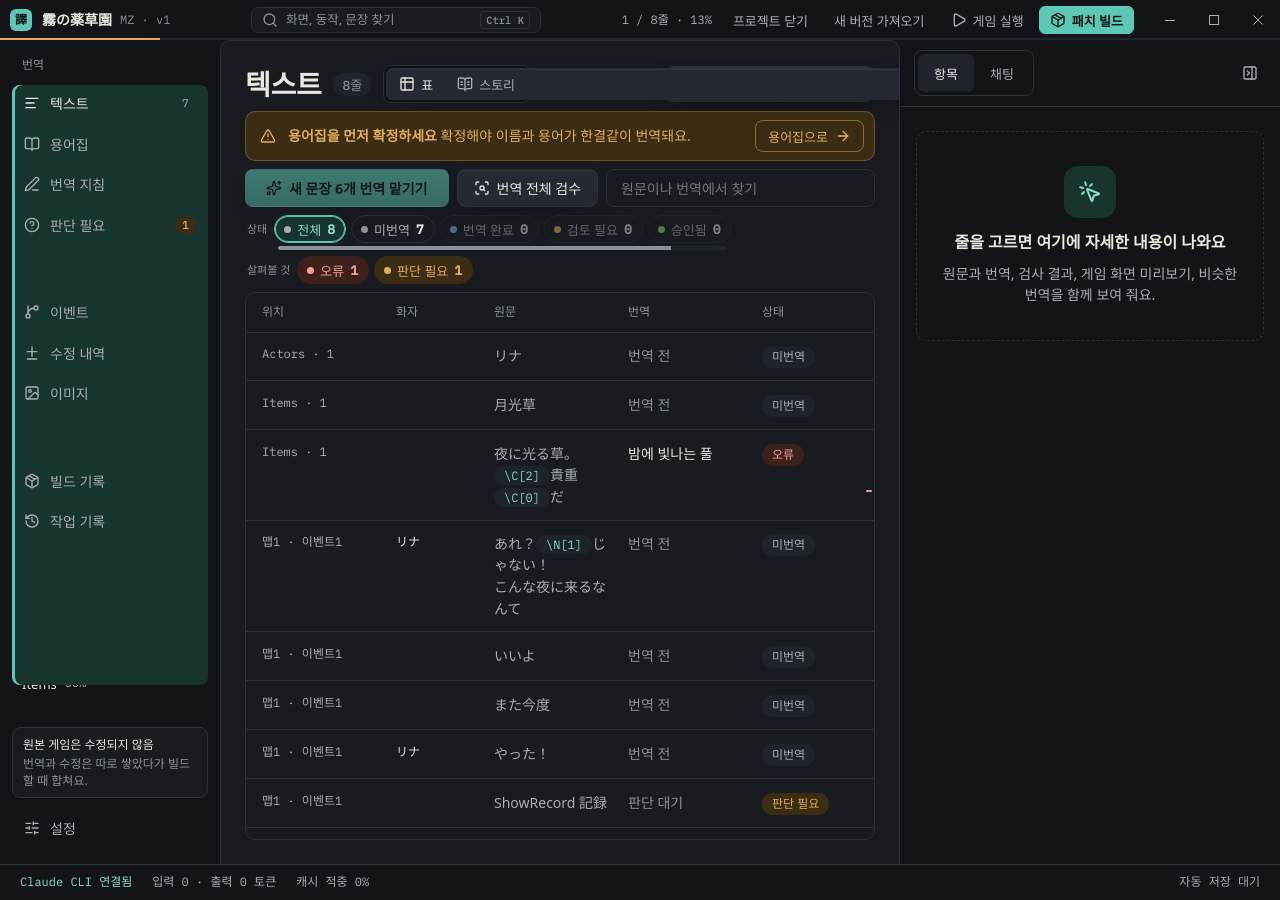
Test: 내보내기와 가져오기가 끝나면 알림
The width and height of the screenshot is (1280, 900).
Expected: the text "霧の薬草園" is shown, [42,9,112,31]
Step 1. Click the button "내보내기 (8)" → click(721, 84), box [665,67,778,101]
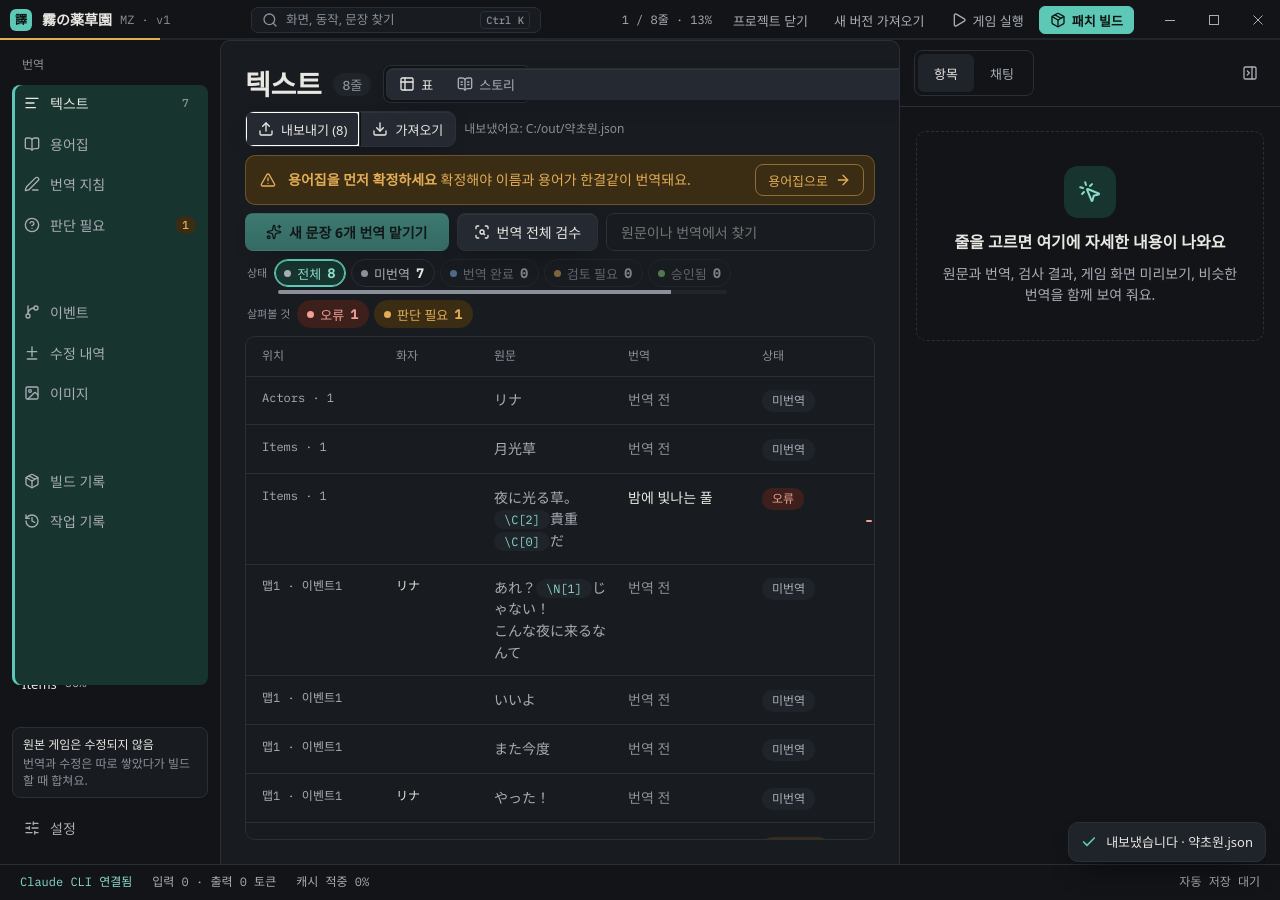
Result: the text "내보냈습니다 · 약초원.json" is shown at [1106,832,1253,852]
Step 2. Click the button "가져오기" → click(407, 129), box [360,112,455,146]
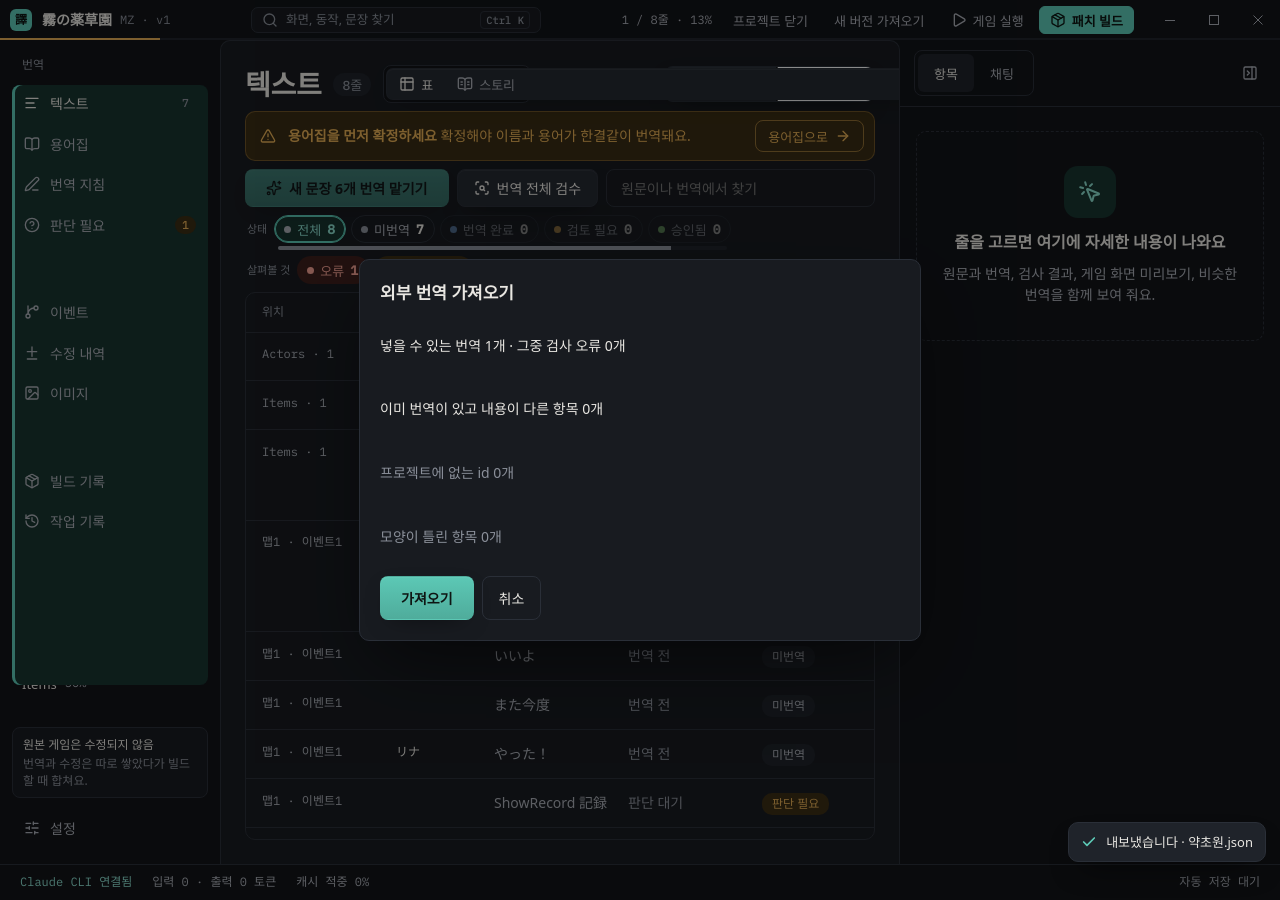
Step 3. Click the button "가져오기" → click(427, 598), box [380,576,474,620]
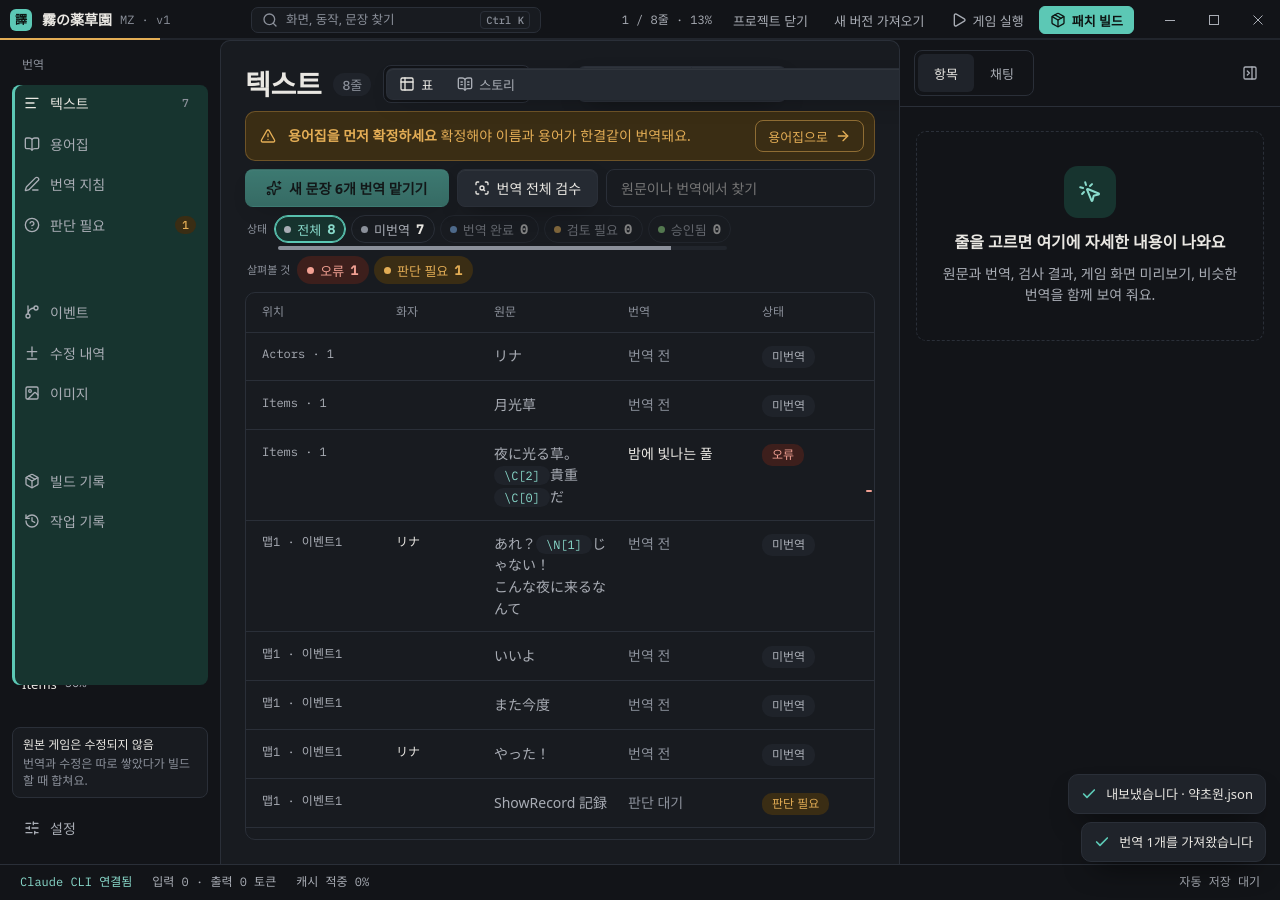
Result: the text "번역 1개를 가져왔습니다" is shown at [1119,832,1253,852]
